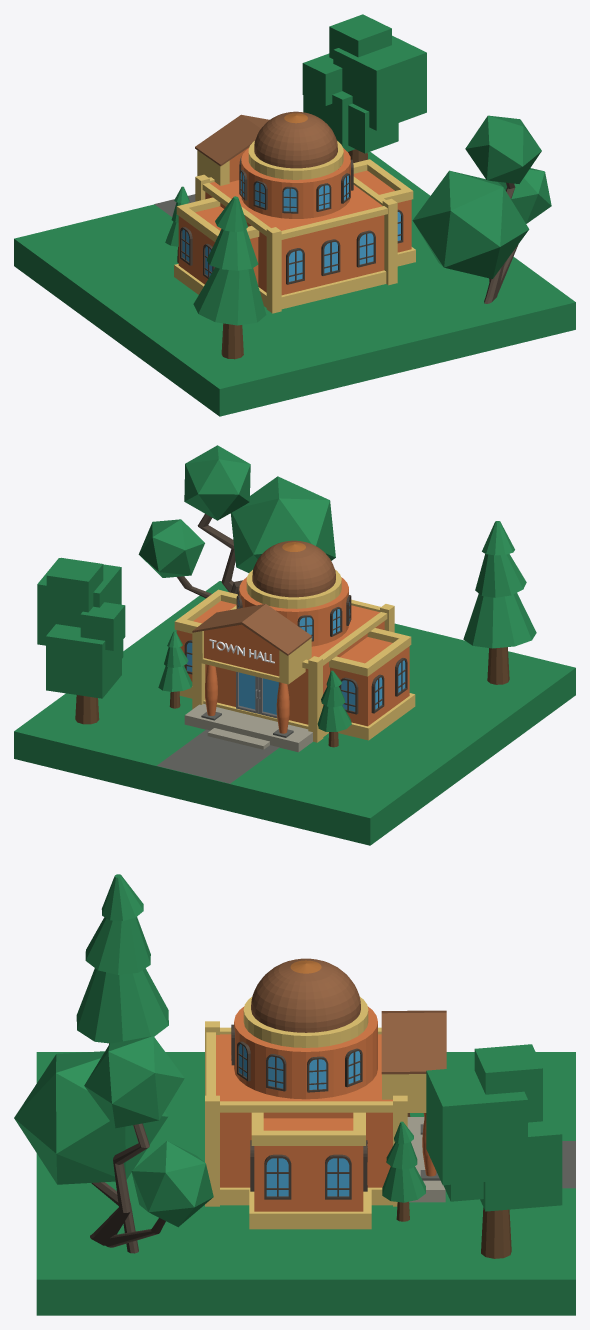
The model's file is cityhall.glb.
3 renders of one model, top to bottom at view 1: azimuth 30°, elevation 25°; view 2: azimuth 150°, elevation 25°; view 3: azimuth 270°, elevation 25°, orthographic. The views are drawn at different scales.
Visible parts, largest first — view 1: Earth.001_0, Earth.010_0, Earth.016_0, Earth.019_0, Earth.017_0, Earth.015_0, Earth.003_1; view 2: Earth.001_0, Earth.010_0, Earth.016_0, Earth.019_0, Earth.005_0, Earth.007_0, Earth.017_0, Earth.015_0, Earth.003_1, Earth.014_0; view 3: Earth.001_0, Earth.010_0, Earth.016_0, Earth.019_0, Earth.017_0, Earth.015_0, Earth.003_1, Earth.007_0, Earth.005_0.
Part boxes in pixels (box(x1,y1,x2,y2)): Earth.001_0: box(14, 14, 575, 416); Earth.010_0: box(178, 147, 411, 295); Earth.016_0: box(174, 141, 415, 313); Earth.019_0: box(195, 111, 337, 168); Earth.017_0: box(180, 156, 518, 303); Earth.015_0: box(182, 172, 400, 281); Earth.003_1: box(177, 149, 367, 359); Earth.001_0: box(14, 445, 575, 845); Earth.010_0: box(176, 577, 409, 733); Earth.016_0: box(174, 569, 415, 742); Earth.019_0: box(192, 540, 335, 655); Earth.005_0: box(157, 712, 293, 783); Earth.007_0: box(184, 704, 312, 752); Earth.017_0: box(177, 514, 407, 714); Earth.015_0: box(187, 598, 405, 714); Earth.003_1: box(75, 647, 509, 747); Earth.014_0: box(236, 672, 279, 718); Earth.001_0: box(14, 874, 575, 1315); Earth.010_0: box(216, 1006, 436, 1211); Earth.016_0: box(205, 997, 426, 1229); Earth.019_0: box(251, 958, 446, 1074); Earth.017_0: box(90, 1024, 367, 1253); Earth.015_0: box(239, 1044, 360, 1196); Earth.003_1: box(109, 1043, 511, 1258); Earth.007_0: box(407, 1117, 445, 1202); Earth.005_0: box(420, 1124, 575, 1188).
Size of the model in its own units: 4.04 by 1.97 by 3.97.
